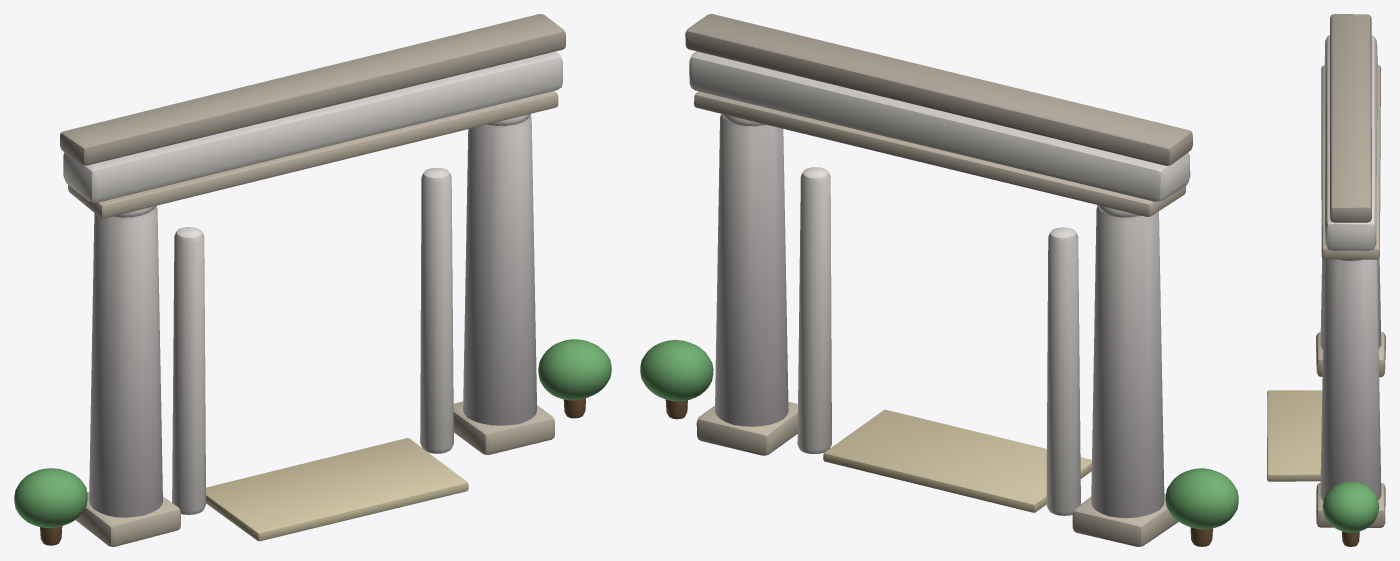
3 views of the same model, side by side, from view 1: azimuth 30°, elevation 25°; view 2: azimuth 150°, elevation 25°; view 3: azimuth 270°, elevation 25° (orthographic). The views are drawn at different scales.
Visible parts, largest first — view 1: gate_94c39357; view 2: gate_94c39357; view 3: gate_94c39357.
Part boxes in pixels (left/top/right/bottom): gate_94c39357: left=14, top=14, right=611, bottom=546; gate_94c39357: left=640, top=14, right=1238, bottom=546; gate_94c39357: left=1267, top=14, right=1385, bottom=546.
Size of the model in its own units: 6.7 by 4.36 by 1.42.
